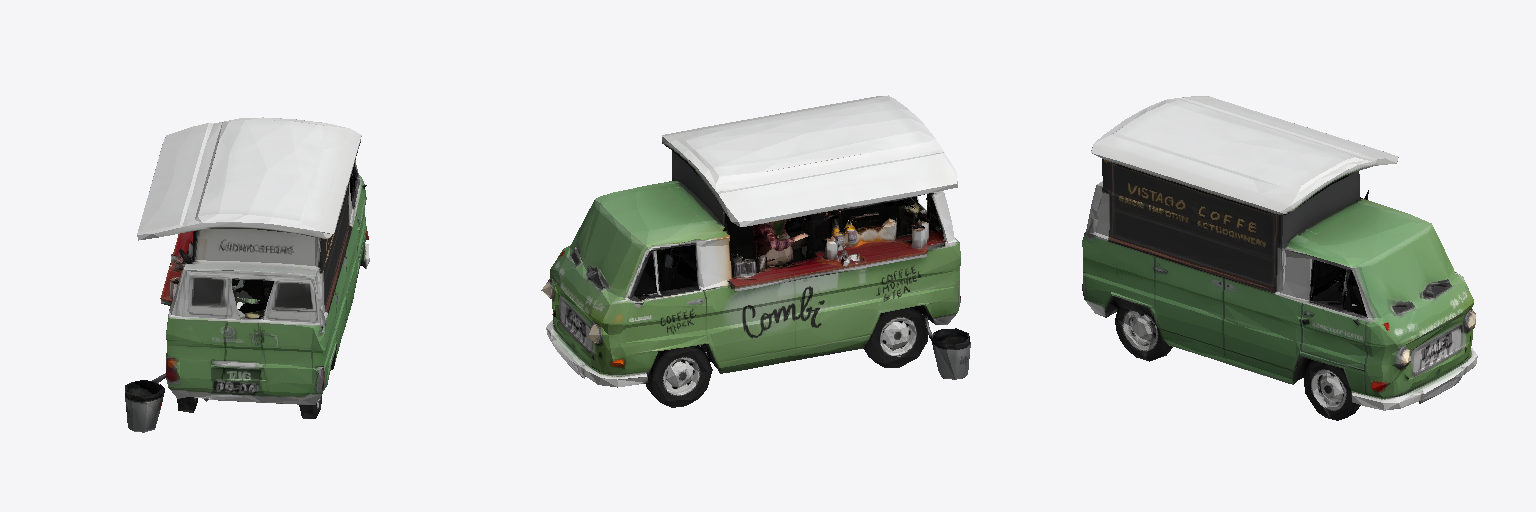
3 views of the same model, side by side, from view 1: azimuth 30°, elevation 25°; view 2: azimuth 150°, elevation 25°; view 3: azimuth 270°, elevation 25° (orthographic).
Parts seen in each view (by area): view 1: cafeteria_[number redacted]_texture; view 2: cafeteria_[number redacted]_texture; view 3: cafeteria_[number redacted]_texture.
Part boxes in pixels (left/top/right/bottom): cafeteria_[number redacted]_texture: left=125, top=117, right=369, bottom=432; cafeteria_[number redacted]_texture: left=541, top=95, right=970, bottom=407; cafeteria_[number redacted]_texture: left=1082, top=96, right=1477, bottom=420.
Bounding box in the file's own units: 26.07 × 16.34 × 27.13.
Materials: 1 (1 with a texture image).